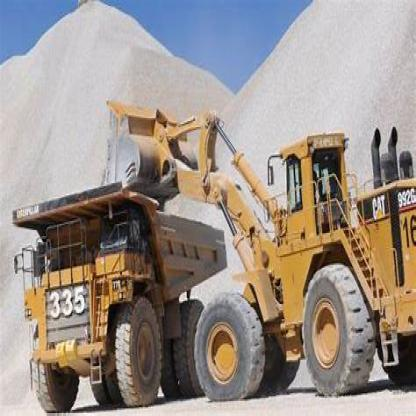bull_dozer/loader/grader: (102, 79, 415, 410)
